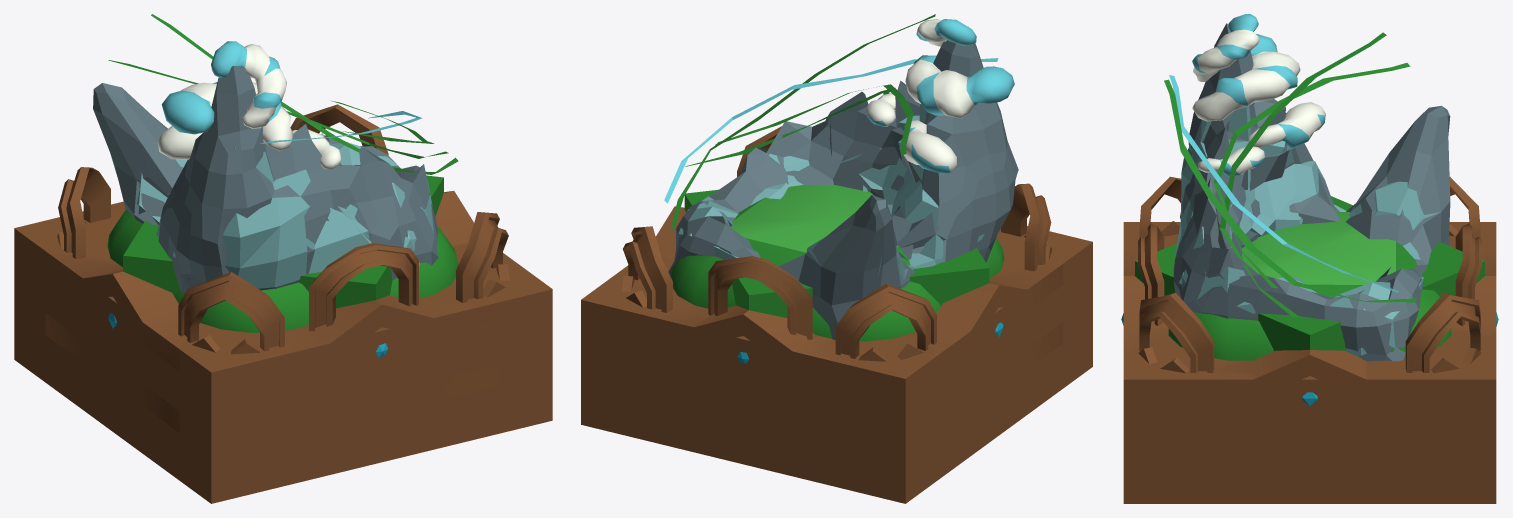
Rendered from Tile_Mountain.fbx.
3 views of the same model, side by side, from view 1: azimuth 30°, elevation 25°; view 2: azimuth 150°, elevation 25°; view 3: azimuth 270°, elevation 25° (orthographic). The views are drawn at different scales.
Parts seen in each view (by area): view 1: Cube.008, Cube; view 2: Cube.008, Cube; view 3: Cube.008, Cube.
Boxes of the visible parts, x1,y1,x2,y2 form: Cube.008: (41, 14, 509, 442); Cube: (14, 175, 552, 503); Cube.008: (621, 14, 1066, 435); Cube: (581, 189, 1092, 503); Cube.008: (1121, 14, 1498, 406); Cube: (1123, 196, 1496, 503).
Size of the model in its own units: 201 by 219 by 202.
